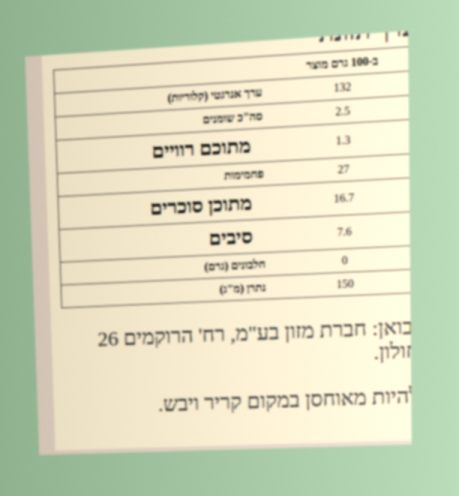carbs: (336, 161, 351, 177)
energy: (332, 79, 353, 95)
fat: (334, 103, 352, 119)
protein: (340, 253, 349, 268)
